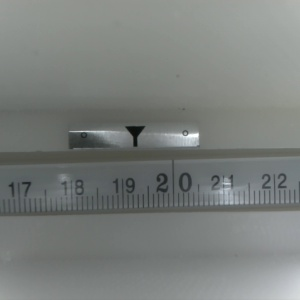0: (178, 172, 192, 192)
1: (112, 177, 119, 193), (8, 181, 15, 197), (60, 181, 67, 196), (227, 174, 233, 190)
2: (156, 172, 169, 192), (277, 173, 286, 189), (210, 175, 219, 190), (261, 174, 270, 188)
7: (22, 182, 31, 196)
8: (74, 180, 83, 195)
9: (125, 177, 135, 193)
finger: (123, 126, 146, 148)
